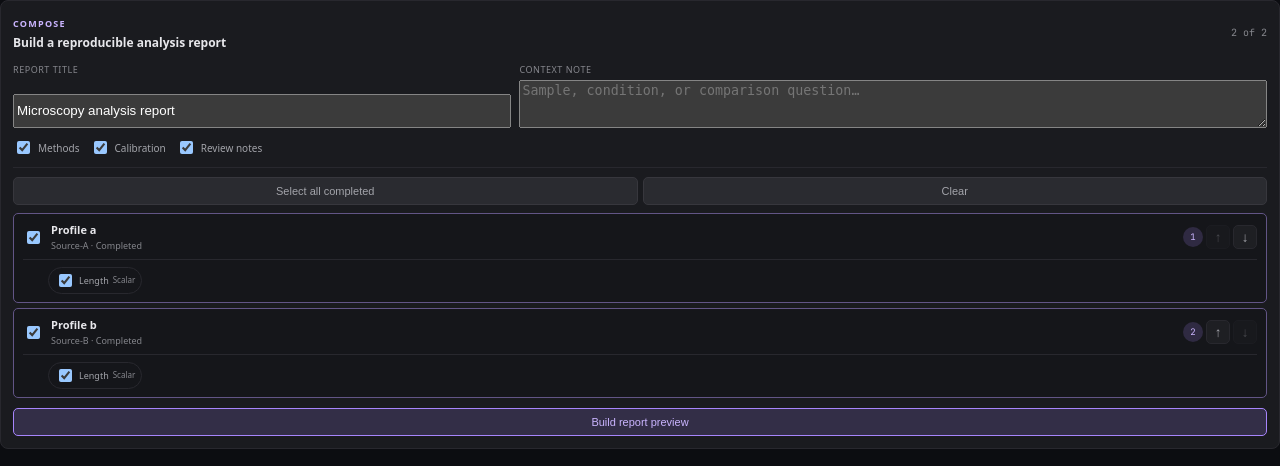
Scenario: ResultsReportPanel › disables report generation when the selection is empty
Click the button "Clear" at (955, 191), box [642,177,1267,205]
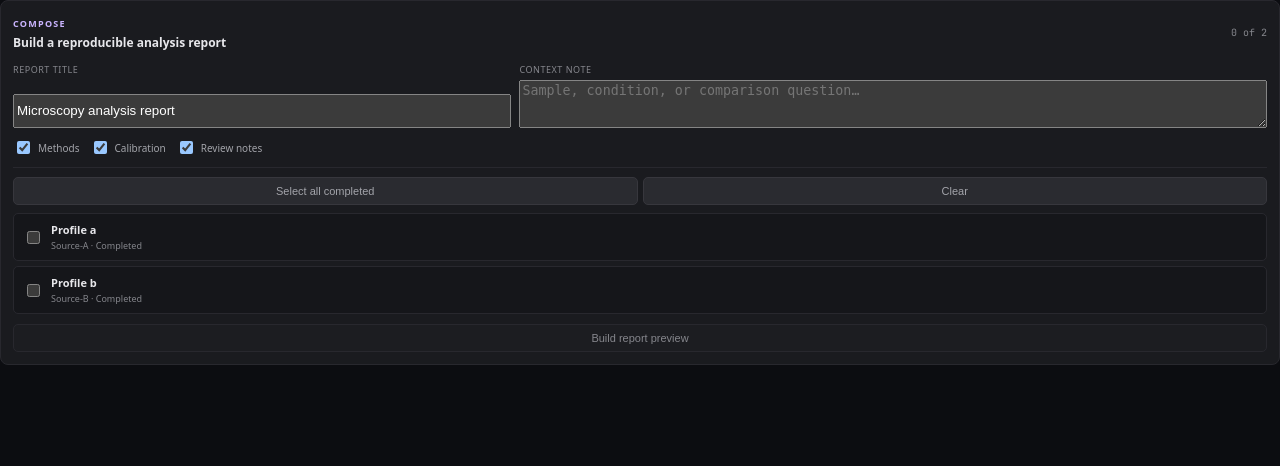
Check: the button "Build report preview" is disabled, box [13,324,1267,352]
